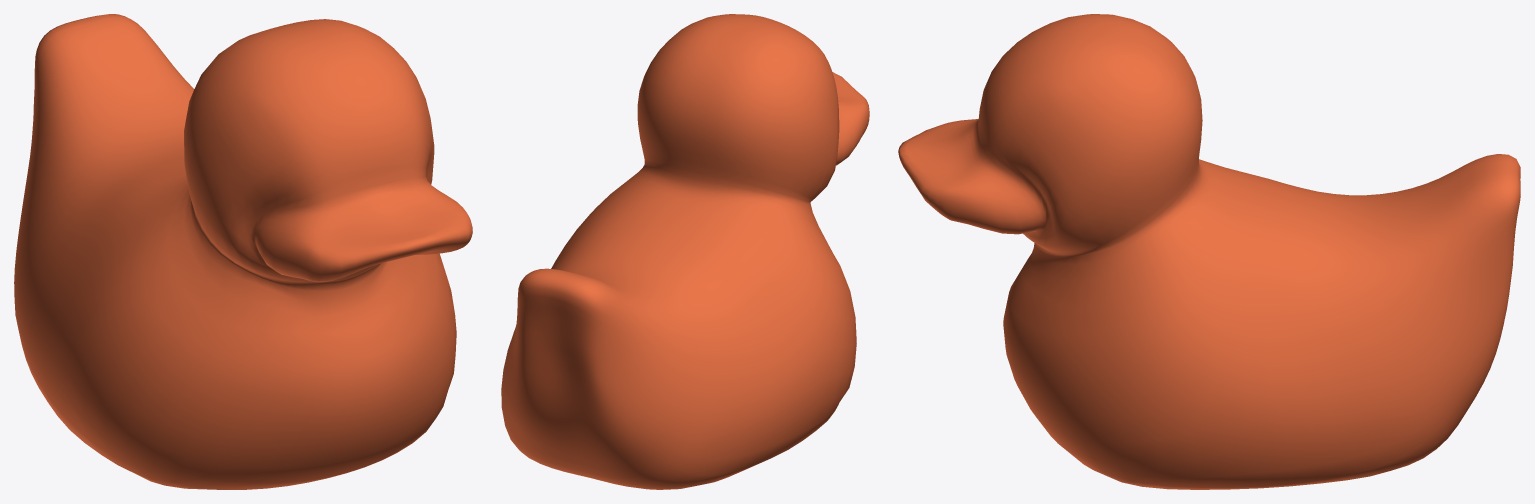
File: orange.glb
3 renders of one model, left to right at view 1: azimuth 30°, elevation 25°; view 2: azimuth 150°, elevation 25°; view 3: azimuth 270°, elevation 25°, orthographic. The views are drawn at different scales.
Visible parts, largest first — view 1: Cube; view 2: Cube; view 3: Cube.
Boxes of the visible parts, x1,y1,x2,y2 form: Cube: [14, 14, 472, 489]; Cube: [501, 14, 869, 489]; Cube: [898, 14, 1520, 489].
Size of the model in its own units: 1.76 by 2.1 by 2.95.
